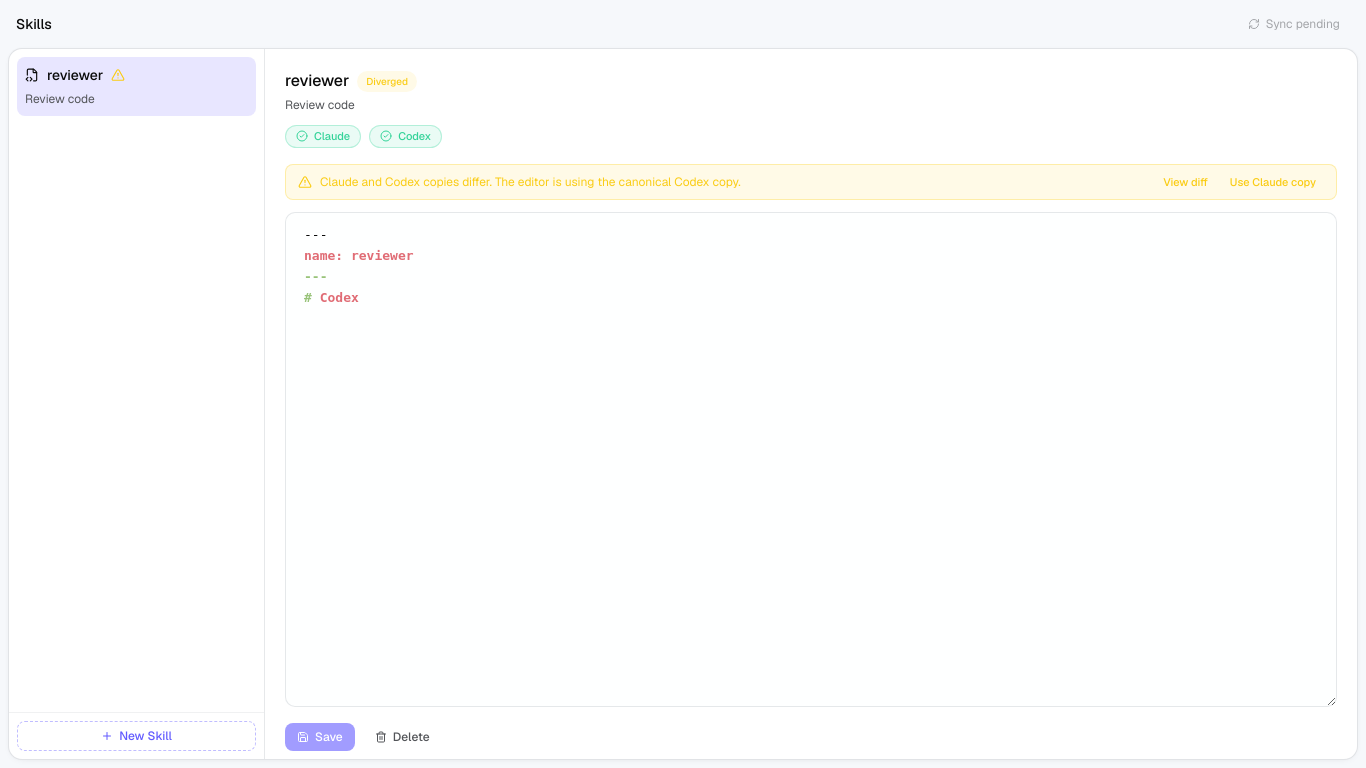
it: SkillsSettings › shows a diff for divergent provider copies
Click the button "View diff".
click(1186, 182)  # box [1155,172,1216,191]
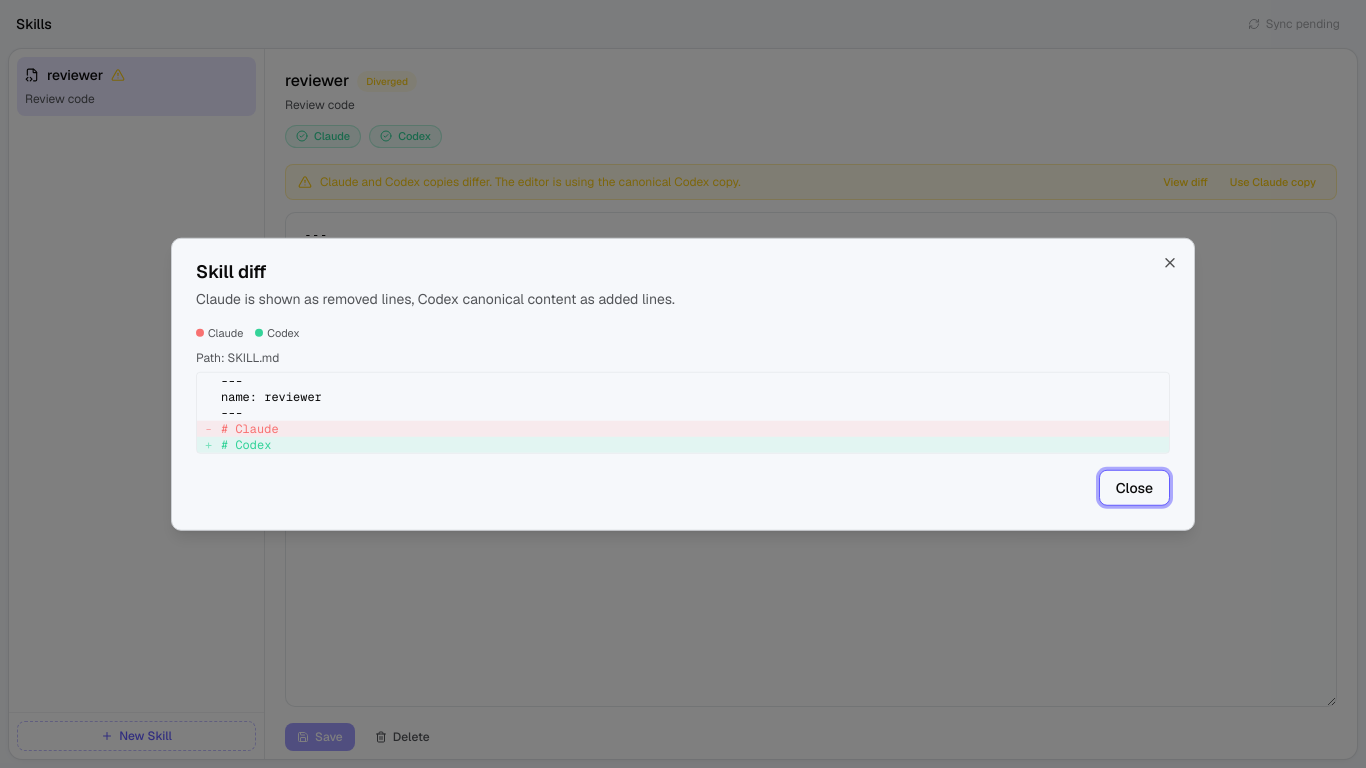
Now the heading "Skill diff" is shown, box [196,260,267,283]
Now the text "# Claude" is shown, box [221,420,279,436]
Now the text "# Codex" is shown, box [221,436,271,452]
